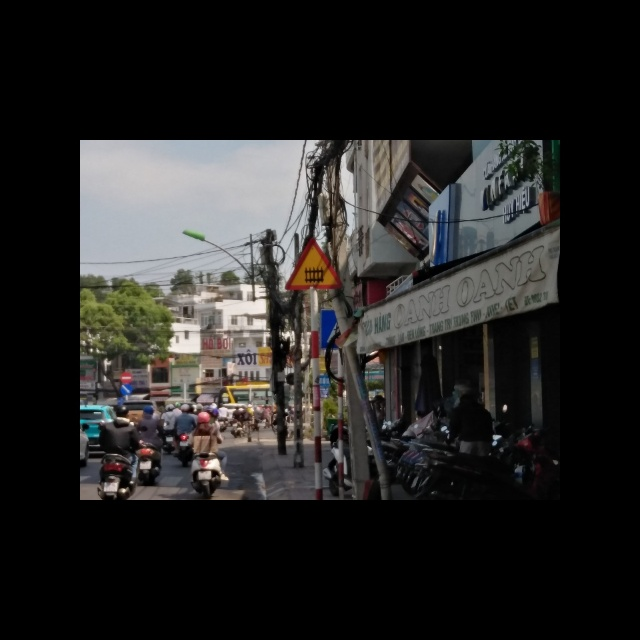Giao nhau với đường sắt có rào chắn: (282, 236, 344, 289)
